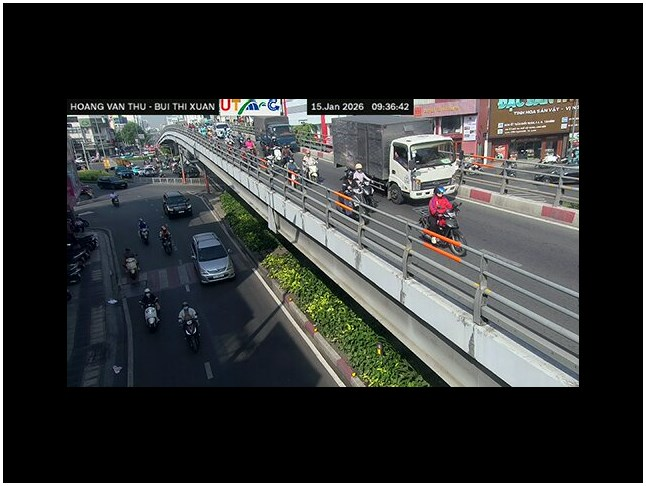bus: (388, 135, 457, 204)
car: (189, 219, 260, 285), (190, 223, 237, 284), (162, 192, 192, 217), (97, 176, 128, 190)
